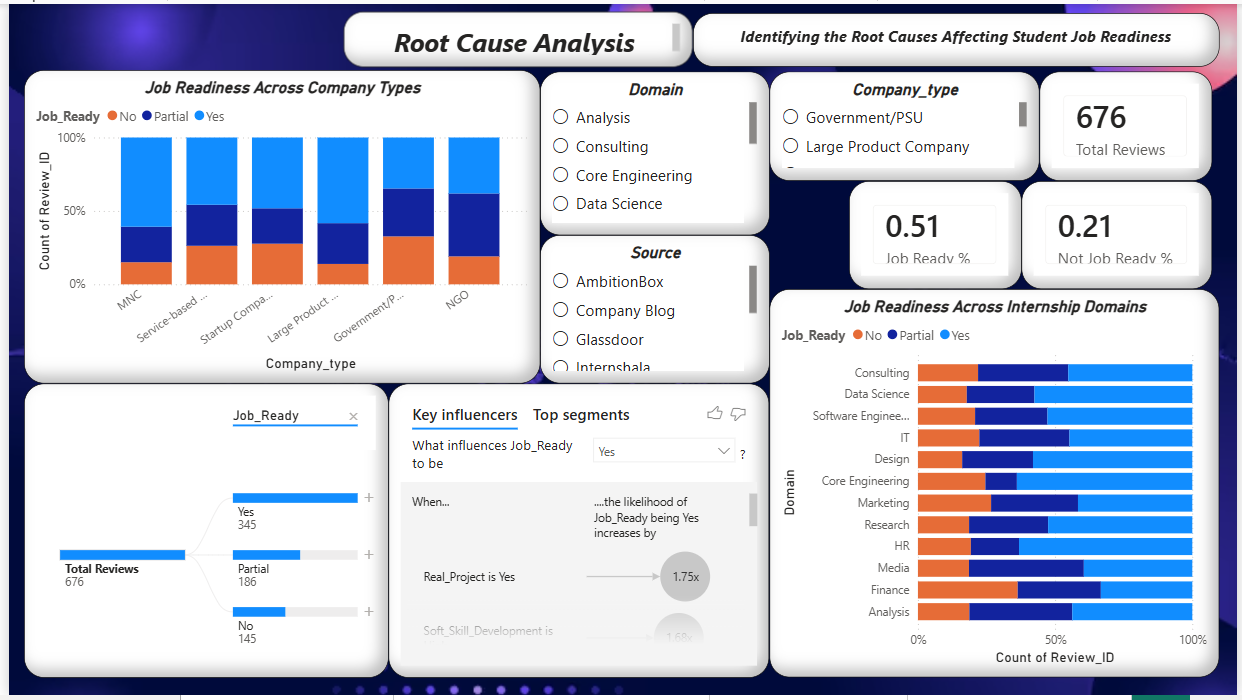

Layout of this report page (visuals, bound fields, positions):
{"tool":"powerbi","page":{"name":"Root Cause Analysis","canvas":[1280,720],"ordinal":3},"visuals":[{"type":"listSlicer","fields":{"Values":["Internship_Experience_dataset_Final.Domain"]},"box":[553.3,70.3,239.1,170.4],"z":0},{"type":"listSlicer","fields":{"Values":["Internship_Experience_dataset_Final.Company_type"]},"box":[792.4,70.3,281.3,114.1],"z":1000},{"type":"listSlicer","fields":{"Values":["Internship_Experience_dataset_Final.Source"]},"box":[553.3,240.7,239.1,154.7],"z":2000},{"type":"cardVisual","fields":{"Data":["Internship_Experience_dataset_Final.Total Reviews"]},"box":[1073.8,70.3,179.7,114.1],"z":3000},{"type":"cardVisual","fields":{"Data":["Internship_Experience_dataset_Final.Job Ready %"]},"box":[875.3,184.4,179.7,112.5],"z":4000},{"type":"cardVisual","fields":{"Data":["Internship_Experience_dataset_Final.Not Job Ready %"]},"box":[1055,184.4,198.5,112.5],"z":6000},{"type":"keyDriversVisual","title":"Key Factors Influencing Student Job Readiness","fields":{"Target":["Internship_Experience_dataset_Final.Job_Ready"],"ExplainBy":["Internship_Experience_dataset_Final.Mentor_Support","Internship_Experience_dataset_Final.Real_Project","Internship_Experience_dataset_Final.Learning_Resources","Internship_Experience_dataset_Final.Feedback_Quality","Internship_Experience_dataset_Final.Communication","Internship_Experience_dataset_Final.Technical_Skill_Development","Internship_Experience_dataset_Final.Soft_Skill_Development","Internship_Experience_dataset_Final.Stress_Level","Internship_Experience_dataset_Final.Workload","Internship_Experience_dataset_Final.Company_type","Internship_Experience_dataset_Final.Domain"]},"box":[395,395,396.7,306.7],"z":7000},{"type":"decompositionTreeVisual","fields":{"Analyze":["Internship_Experience_dataset_Final.Total Reviews"],"ExplainBy":["Internship_Experience_dataset_Final.Job_Ready","Internship_Experience_dataset_Final.Real_Project","Internship_Experience_dataset_Final.Soft_Skill_Development","Internship_Experience_dataset_Final.Domain","Internship_Experience_dataset_Final.Company_type","Internship_Experience_dataset_Final.Feedback_Quality","Internship_Experience_dataset_Final.Communication","Internship_Experience_dataset_Final.Mentor_Support","Internship_Experience_dataset_Final.Technical_Skill_Development"]},"box":[15,395,380,306.7],"z":8000},{"type":"hundredPercentStackedBarChart","title":"Job Readiness Across Internship Domains","fields":{"Category":["Internship_Experience_dataset_Final.Domain"],"Y":["CountNonNull(Internship_Experience_dataset_Final.Review_ID)"],"Series":["Internship_Experience_dataset_Final.Job_Ready"]},"box":[792.4,297,468.9,404.8],"z":9000},{"type":"hundredPercentStackedColumnChart","title":"Job Readiness Across Company Types","fields":{"Category":["Internship_Experience_dataset_Final.Company_type"],"Y":["CountNonNull(Internship_Experience_dataset_Final.Review_ID)"],"Series":["Internship_Experience_dataset_Final.Job_Ready"]},"box":[15.6,68.8,537.7,326.7],"z":10000},{"type":"textbox","box":[348.5,7.8,364.2,57.8],"z":11000},{"type":"textbox","box":[712.7,9.4,548.6,56.3],"z":12000}]}

Visuals, with their boxes in screenshot pixels (x1, y1, x2, y2), scaled from the page's 1280x720 canvas onto the 1242x700 screenshot:
listSlicer - Internship_Experience_dataset_Final.Domain: detection(537, 68, 769, 234)
listSlicer - Internship_Experience_dataset_Final.Company_type: detection(769, 68, 1042, 179)
listSlicer - Internship_Experience_dataset_Final.Source: detection(537, 234, 769, 384)
cardVisual - Internship_Experience_dataset_Final.Total Reviews: detection(1042, 68, 1216, 179)
cardVisual - Internship_Experience_dataset_Final.Job Ready %: detection(849, 179, 1024, 289)
cardVisual - Internship_Experience_dataset_Final.Not Job Ready %: detection(1024, 179, 1216, 289)
"Key Factors Influencing Student Job Readiness" keyDriversVisual: detection(383, 384, 768, 682)
decompositionTreeVisual - Internship_Experience_dataset_Final.Total Reviews x Internship_Experience_dataset_Final.Job_Ready: detection(15, 384, 383, 682)
"Job Readiness Across Internship Domains" hundredPercentStackedBarChart: detection(769, 289, 1224, 682)
"Job Readiness Across Company Types" hundredPercentStackedColumnChart: detection(15, 67, 537, 385)
textbox: detection(338, 8, 692, 64)
textbox: detection(692, 9, 1224, 64)
